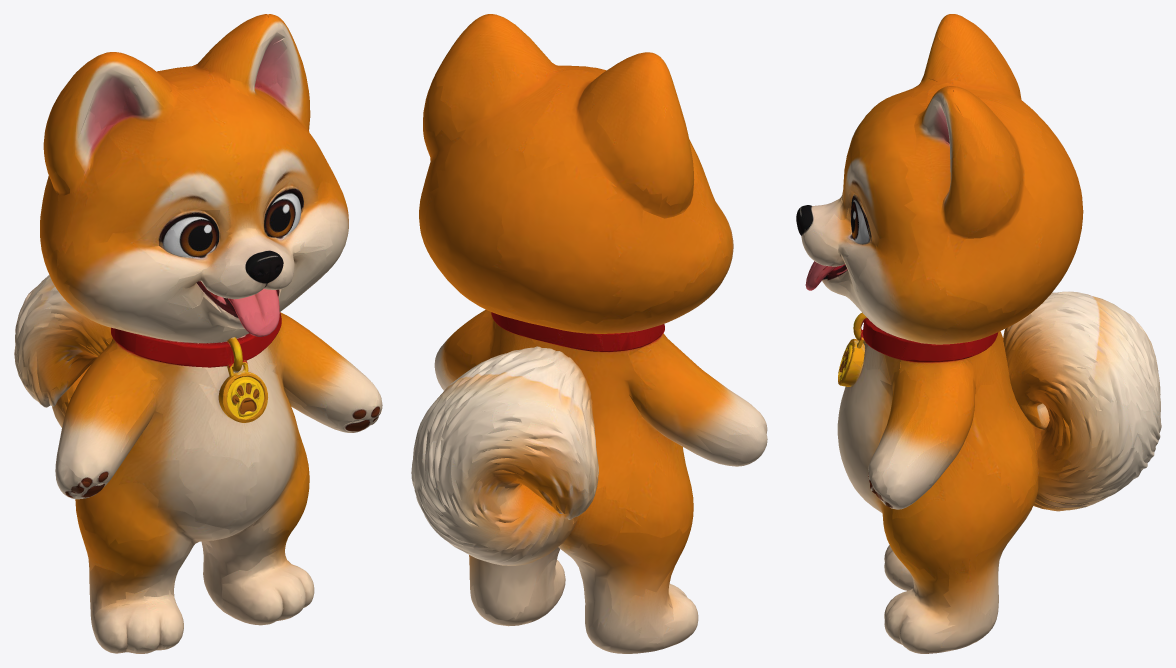
Rendered from jerry_puppy_25k_tris.glb.
3 renders of one model, left to right at view 1: azimuth 30°, elevation 25°; view 2: azimuth 150°, elevation 25°; view 3: azimuth 270°, elevation 25°, orthographic. The views are drawn at different scales.
Parts seen in each view (by area): view 1: output_unwrapped; view 2: output_unwrapped; view 3: output_unwrapped.
Part boxes in pixels (x1,y1,x2,y2): output_unwrapped: [14, 14, 382, 653]; output_unwrapped: [411, 14, 767, 653]; output_unwrapped: [796, 14, 1161, 653].
Size of the model in its own units: 1.1 by 1.9 by 1.13.
Materials: 1 (1 with a texture image).
